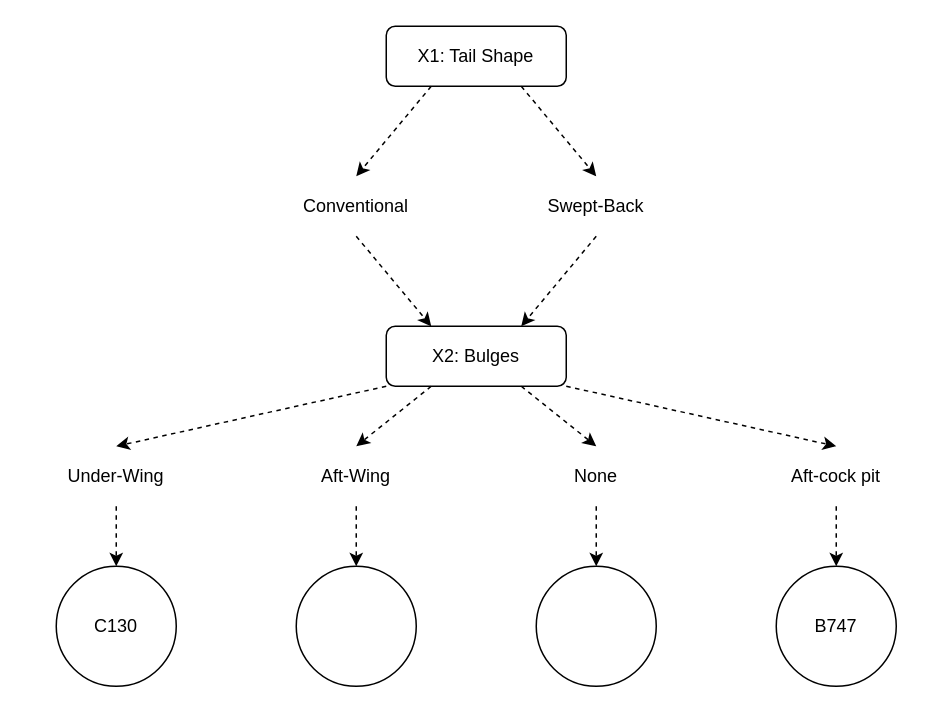
The diagram is 951 pixels wide and 713 high, and some of its shapes have lost their labels. Each missing label, with the box of its shape:
C141: (295, 565, 416, 686)
C5A: (535, 565, 656, 686)
